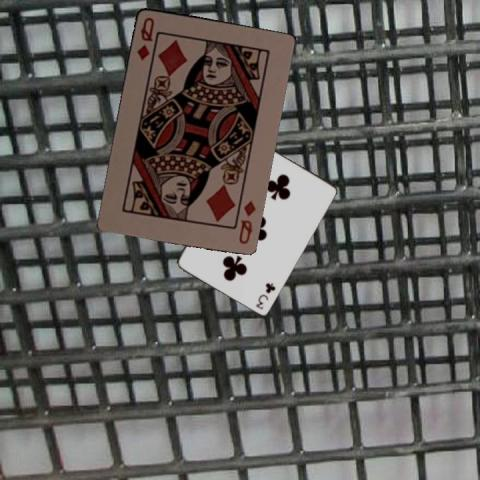3c: (252, 279, 276, 311)
Qd: (236, 198, 258, 246), (134, 14, 155, 61)
